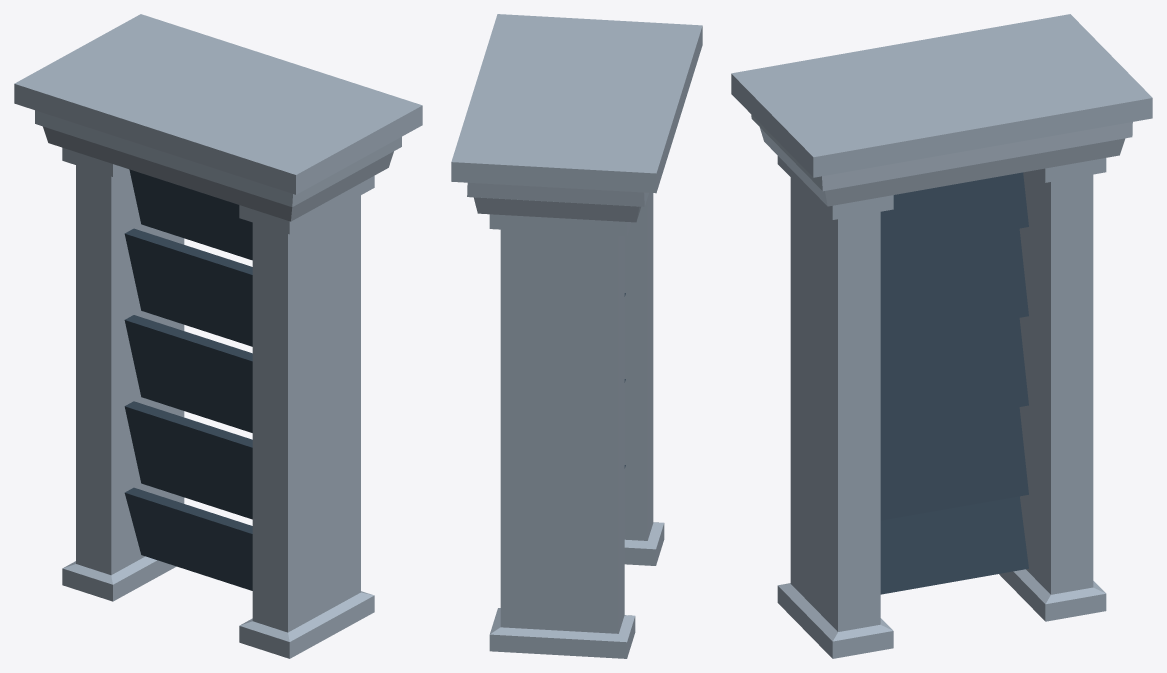
File: Platform.fbx
The picture shows the model from 3 angles, left to right: view 1: azimuth 30°, elevation 25°; view 2: azimuth 150°, elevation 25°; view 3: azimuth 270°, elevation 25°; orthographic projection. The views are drawn at different scales.
Parts seen in each view (by area): view 1: 立方体.151; view 2: 立方体.151; view 3: 立方体.151.
Part boxes in pixels (<box>): 立方体.151: <box>14,14,422,658</box>; 立方体.151: <box>451,14,702,658</box>; 立方体.151: <box>731,14,1152,658</box>.
Size of the model in its own units: 742 by 922 by 1258.
